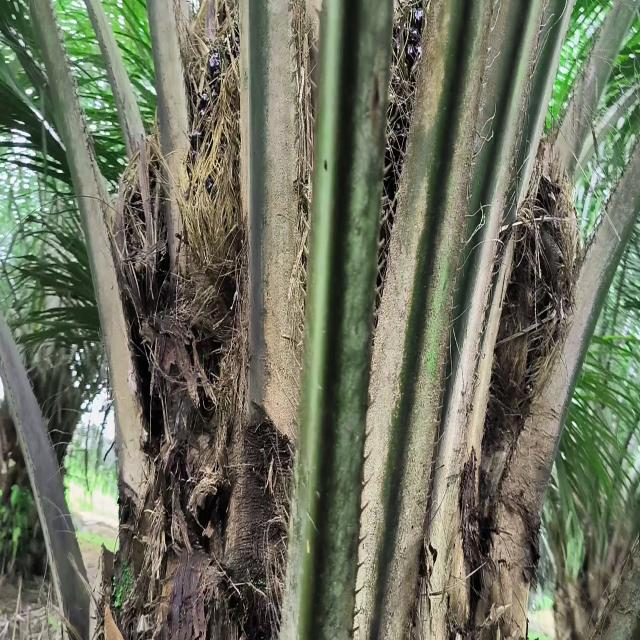palm-oil: (173, 43, 264, 317), (373, 10, 459, 282)
